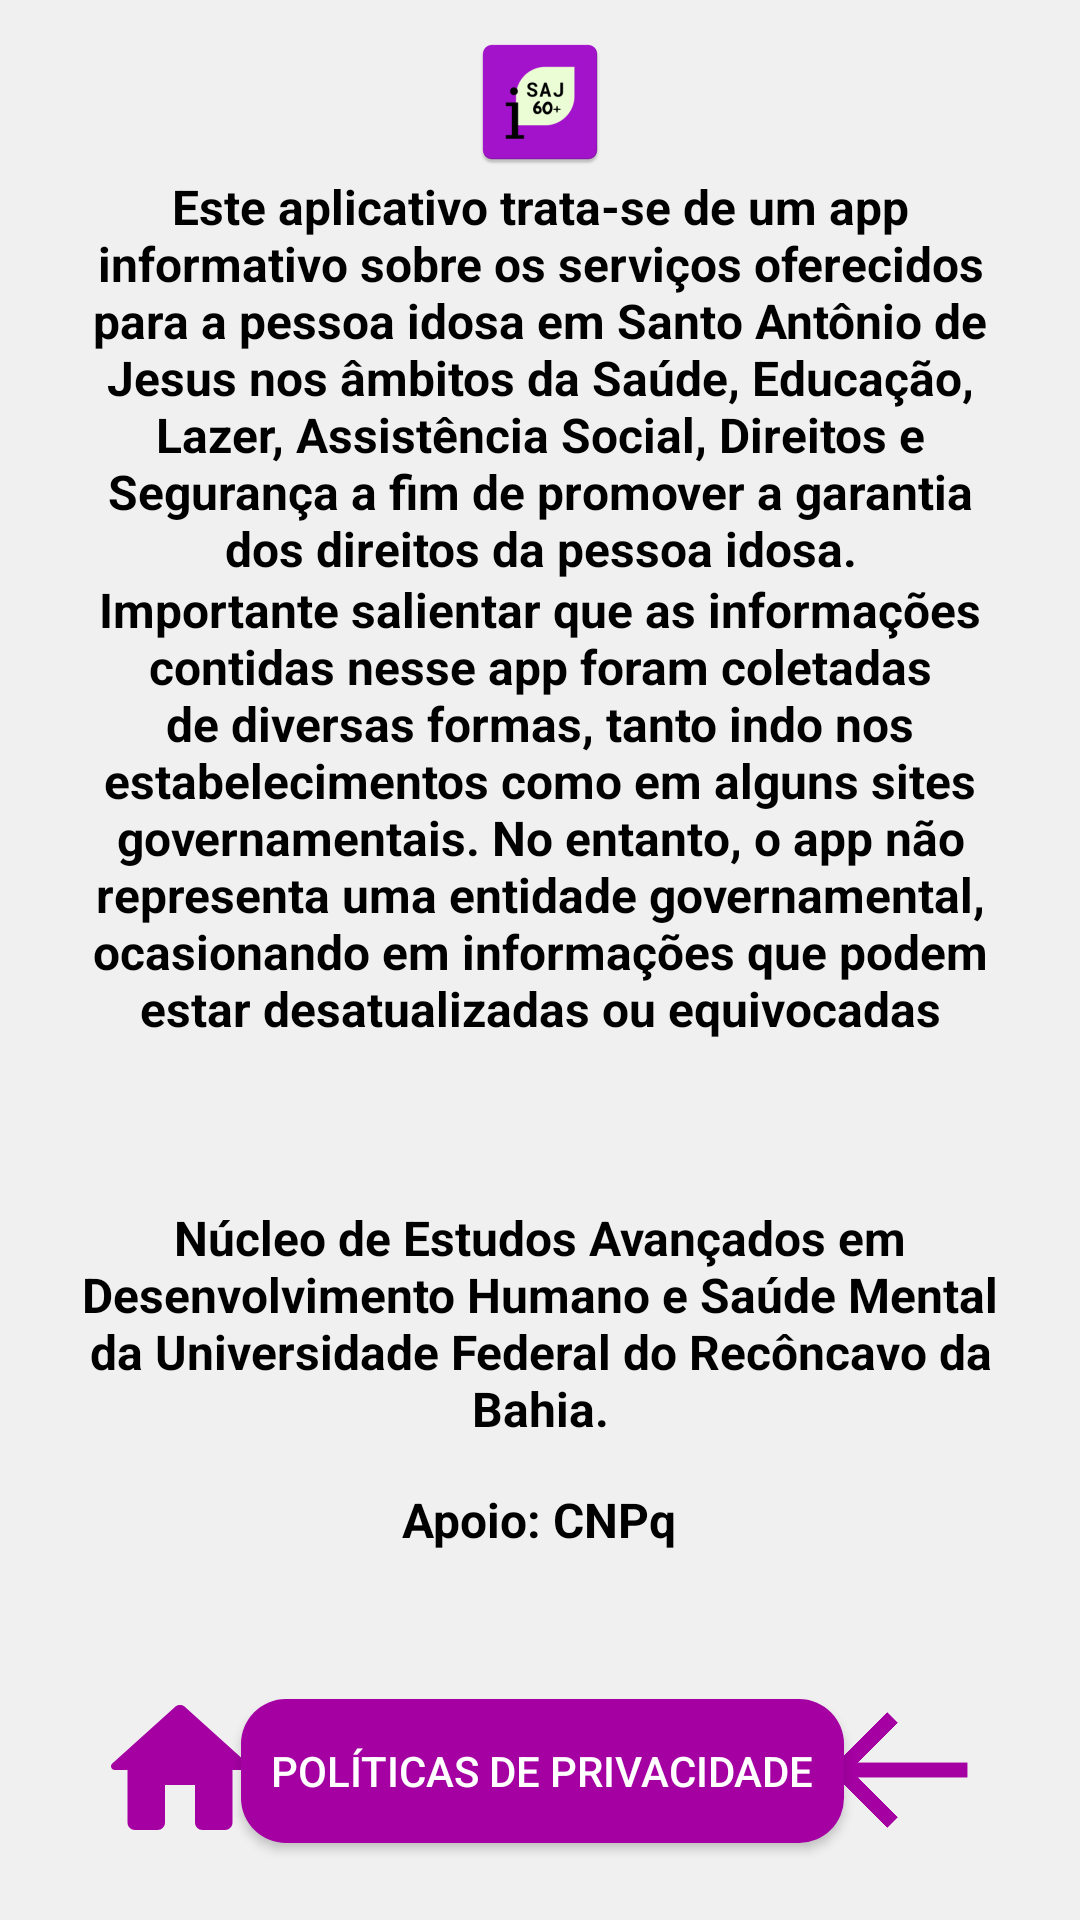

Where icons sit on this 1080px x 1920px app screen, as (left=x1, top=y1, right=x2, bottom=y2):
arrow back: (left=810, top=1700, right=968, bottom=1848)
home: (left=111, top=1702, right=270, bottom=1845)
